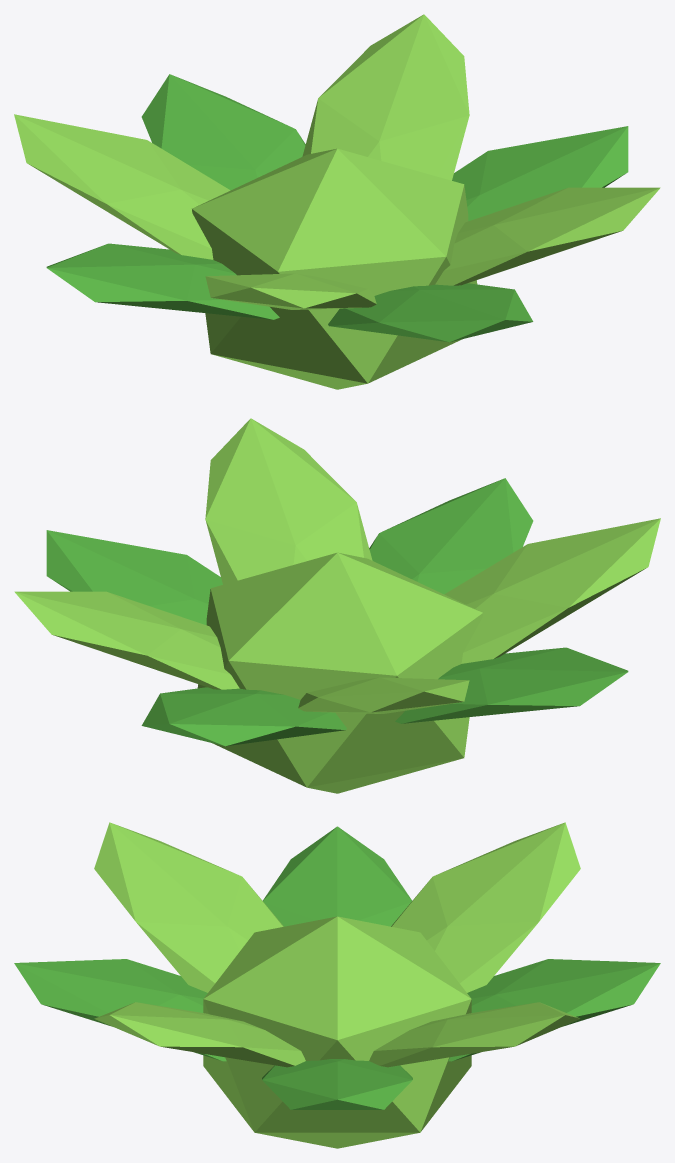
The model's file is harvest_drop_lettuce.glb.
3 renders of one model, top to bottom at view 1: azimuth 30°, elevation 25°; view 2: azimuth 150°, elevation 25°; view 3: azimuth 270°, elevation 25°, orthographic. The views are drawn at different scales.
Parts seen in each view (by area): view 1: FTF_Harvest_Drop_Lettuce_Mesh; view 2: FTF_Harvest_Drop_Lettuce_Mesh; view 3: FTF_Harvest_Drop_Lettuce_Mesh.
Part boxes in pixels (x1=…): FTF_Harvest_Drop_Lettuce_Mesh: x1=14, y1=14, x2=660, y2=389; FTF_Harvest_Drop_Lettuce_Mesh: x1=14, y1=418, x2=660, y2=793; FTF_Harvest_Drop_Lettuce_Mesh: x1=14, y1=822, x2=660, y2=1148.
Size of the model in its own units: 0.6563 by 0.26 by 0.6563.
